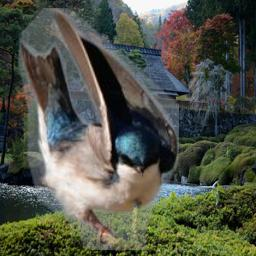Swallow: (18, 8, 179, 250)
